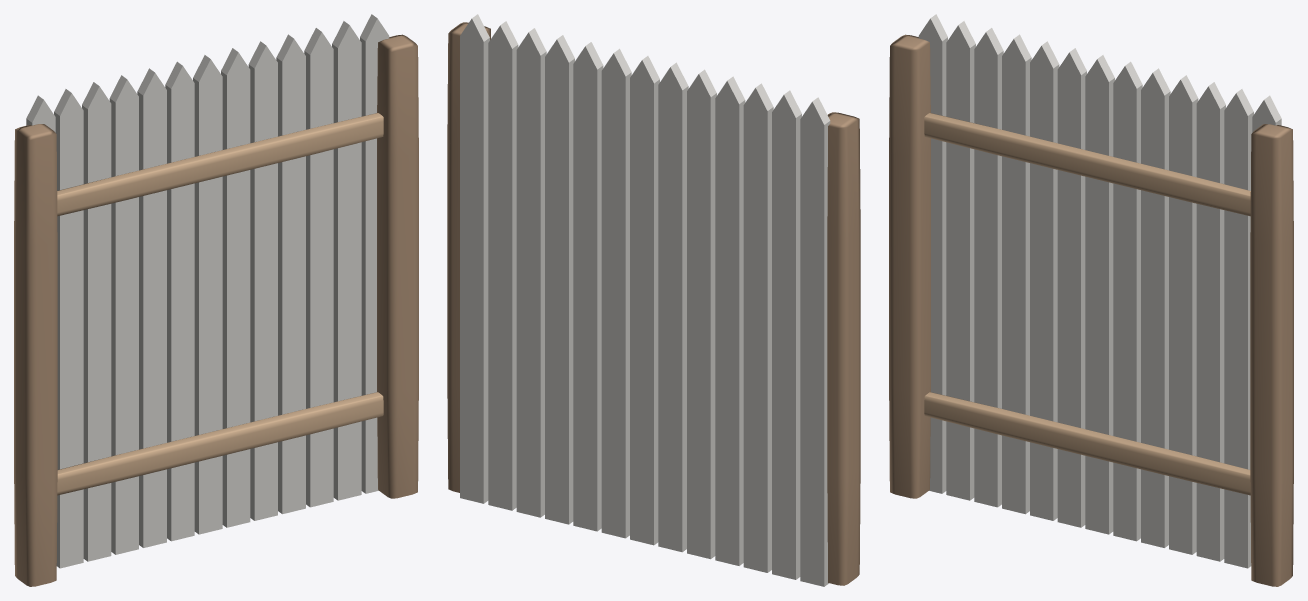
The model's file is HotPotatoFence.glb.
3 views of the same model, side by side, from view 1: azimuth 30°, elevation 25°; view 2: azimuth 150°, elevation 25°; view 3: azimuth 330°, elevation 25° (orthographic). The views are drawn at different scales.
Visible parts, largest first — view 1: Pickets, Posts, Rails; view 2: Pickets, Posts; view 3: Pickets, Posts, Rails.
Boxes of the visible parts, bbox=[...] form: Pickets: bbox=[26, 14, 389, 568]; Posts: bbox=[14, 34, 418, 586]; Rails: bbox=[57, 113, 383, 495]; Pickets: bbox=[460, 14, 830, 586]; Posts: bbox=[447, 22, 860, 585]; Pickets: bbox=[918, 14, 1281, 568]; Posts: bbox=[889, 34, 1293, 586]; Rails: bbox=[924, 113, 1250, 495].
Size of the model in its own units: 9.1 by 10.5 by 0.82.
